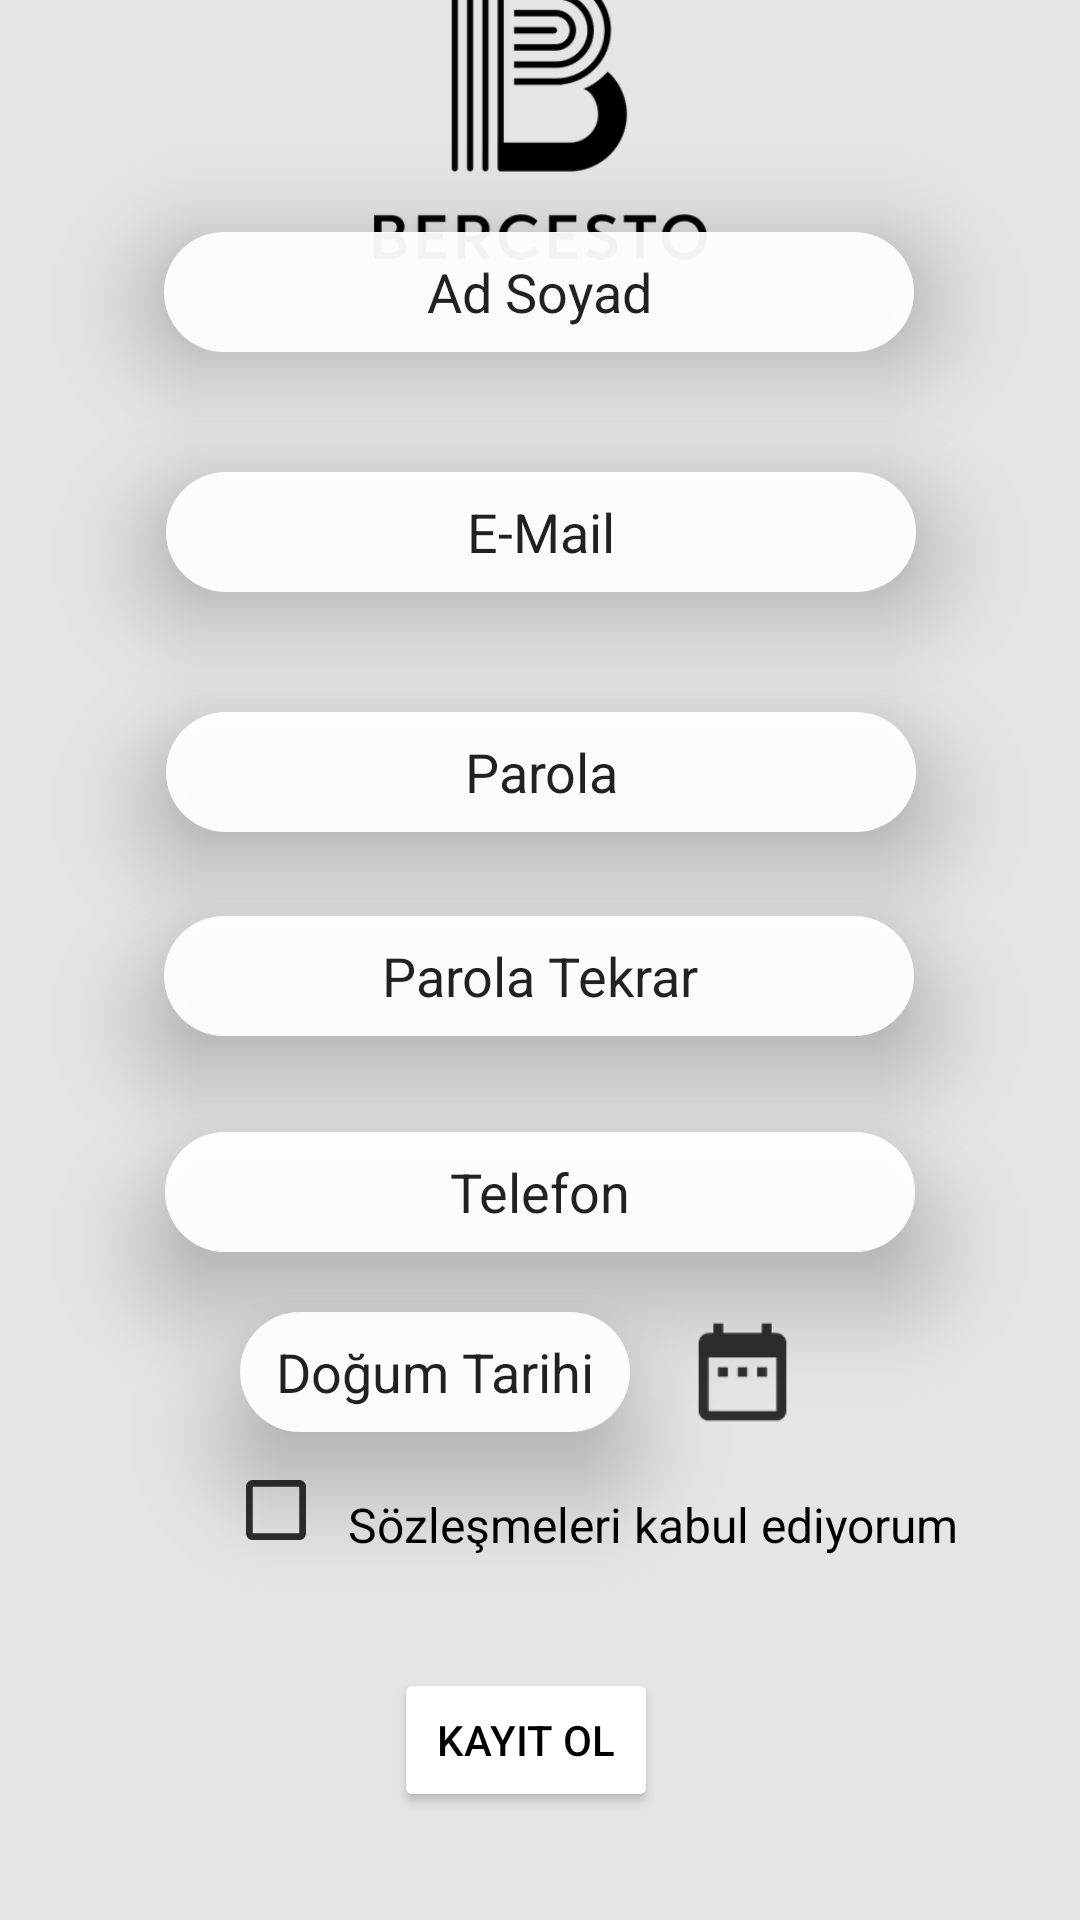

Point at icon controls on the screen. Image size 1080px x 1920px, points as (x=x, y=y).
check: (x=276, y=1507)
date: (x=742, y=1372)
